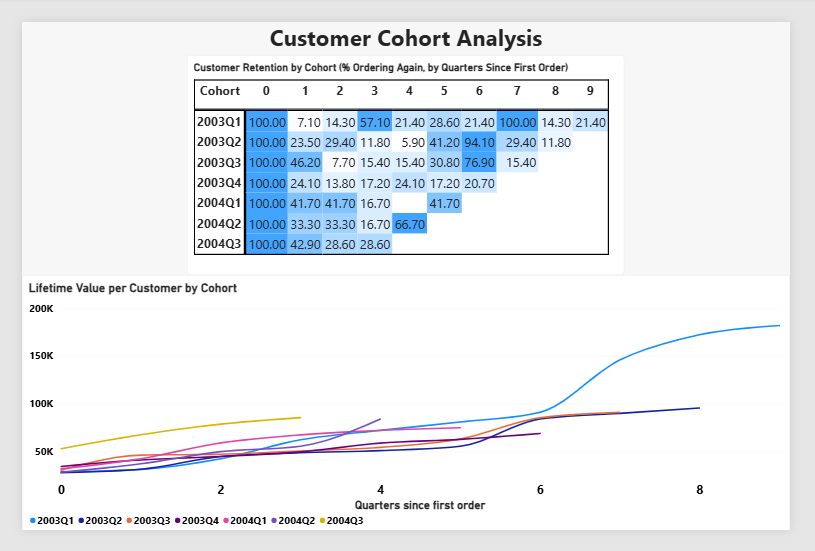

Layout of this report page (visuals, bound fields, positions):
{"tool":"powerbi","page":{"name":"Cohort Analysis","canvas":[1920,1270],"ordinal":1},"visuals":[{"type":"pivotTable","title":"Customer Retention by Cohort (% Ordering Again, by Quarters Since First Order)","fields":{"Columns":["Retention.QuartersSinceFirst"],"Rows":["Retention.Cohort"],"Values":["Avg(Retention.RetentionRate)"]},"box":[412.5,82.5,1092.5,550],"z":0},{"type":"lineChart","title":"Lifetime Value per Customer by Cohort","fields":{"Category":["CohortRevenue.QuartersSinceFirst"],"Series":["CohortRevenue.Cohort"],"Y":["Avg(CohortRevenue.LTVPerCustomer)"]},"box":[0,632.5,1920,650],"z":1000},{"type":"textbox","box":[0,0,1920,82.5],"z":1001}]}

Visuals, with their boxes in screenshot pixels (x1, y1, x2, y2), scaled from the page's 1920x1270 canvas onto the 815x551 screenshot:
"Customer Retention by Cohort (% Ordering Again, by Quarters Since First Order)" pivotTable: pyautogui.locateOnScreen(175, 36, 639, 274)
"Lifetime Value per Customer by Cohort" lineChart: pyautogui.locateOnScreen(0, 274, 814, 550)
textbox: pyautogui.locateOnScreen(0, 0, 814, 36)
